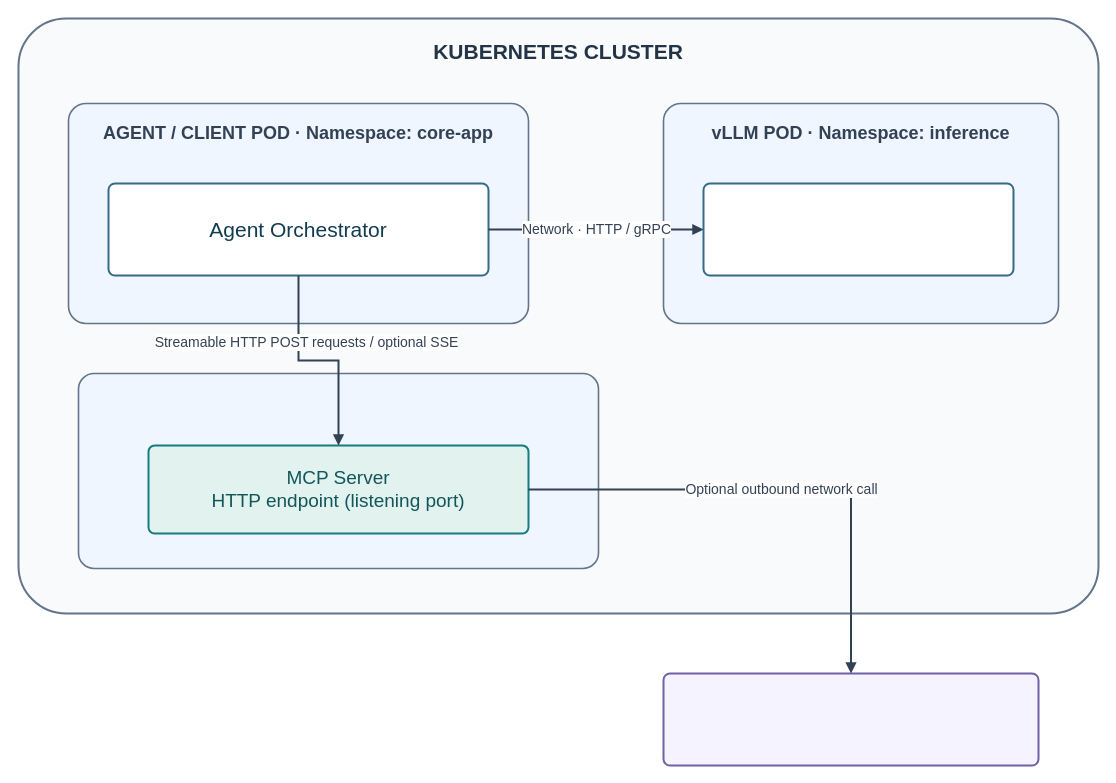
Image size: 1116x783. Some labels were removed from this diagram. The shapes that lost their labels are listed below. From the top down, each one's box as (x1, y1, x2, y2) in pixels, then its label:
(702, 182, 1014, 276): vLLM LLM Inference Engine
(77, 372, 599, 569): MCP SERVER POD · Namespace: shared-tools
(662, 672, 1039, 766): Enterprise SaaS APIs / Databases
